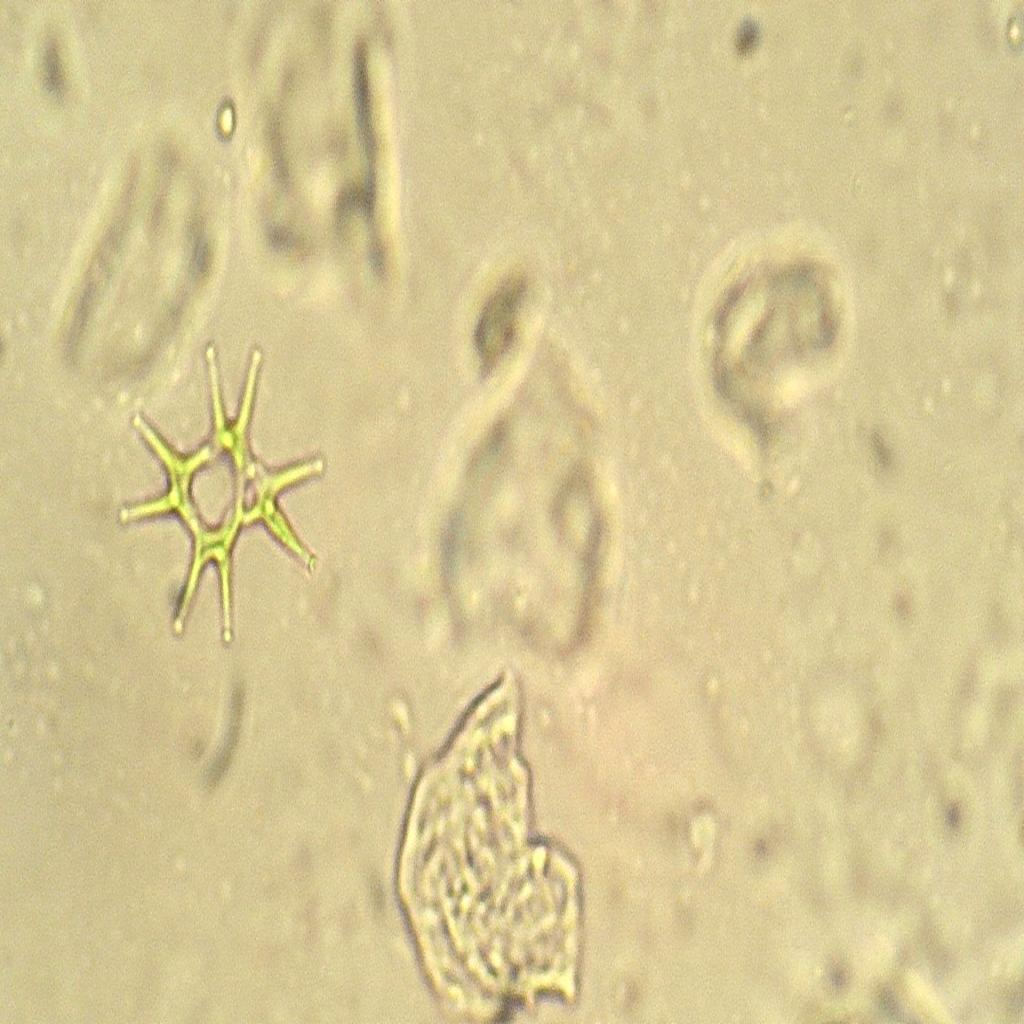Pediastrum_75FO: (111, 310, 340, 670)
